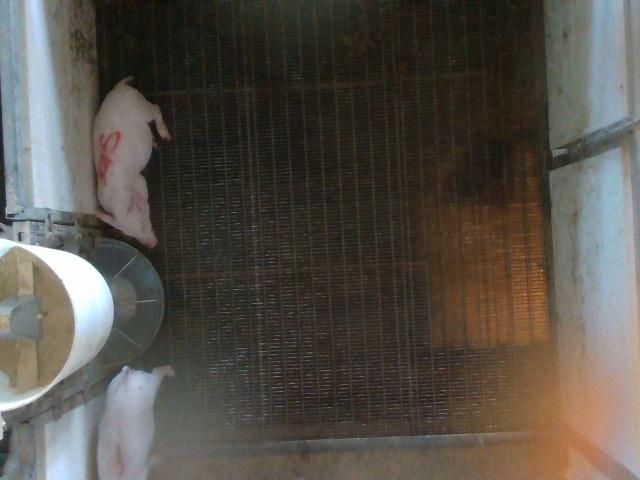pig-1: (99, 366, 174, 478)
pig-5: (94, 76, 171, 247)
